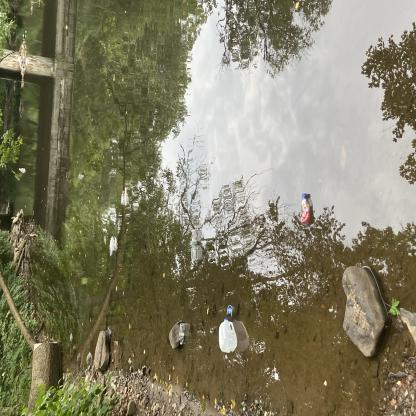trash: (214, 314, 241, 357), (294, 190, 314, 229), (178, 320, 188, 348), (225, 302, 235, 318)
